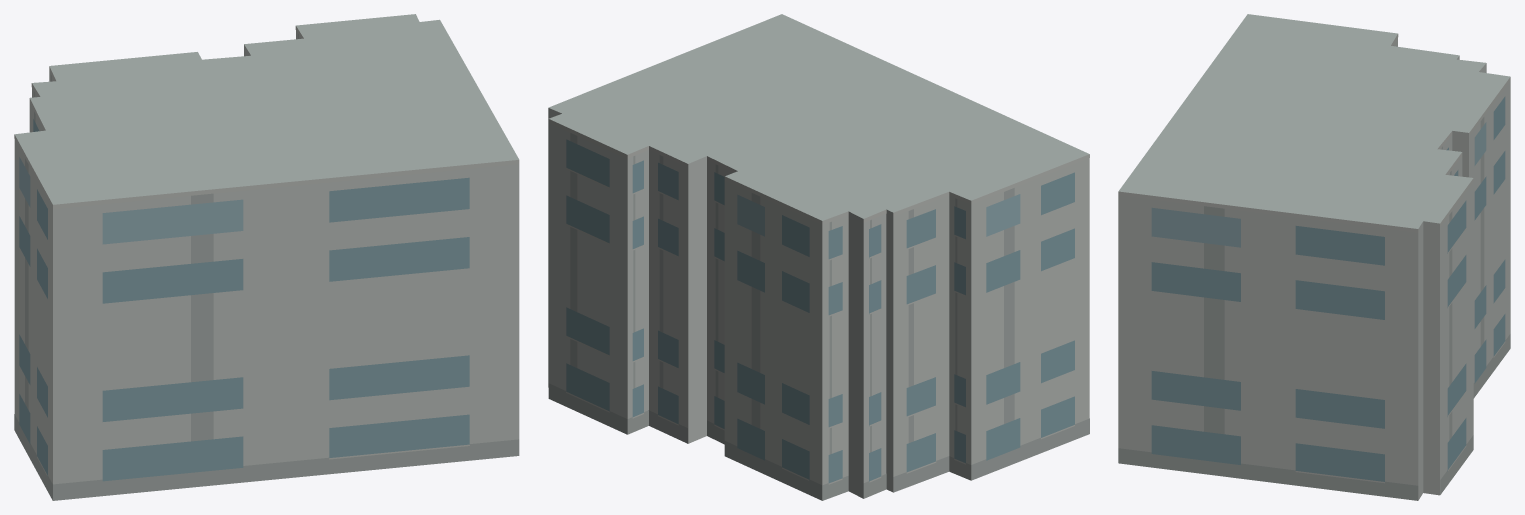
Rendered from survey-upis-32859685.glb.
3 views of the same model, side by side, from view 1: azimuth 30°, elevation 25°; view 2: azimuth 150°, elevation 25°; view 3: azimuth 270°, elevation 25° (orthographic). The views are drawn at different scales.
Visible parts, largest first — view 1: survey-upis-32859685.tmp; view 2: survey-upis-32859685.tmp; view 3: survey-upis-32859685.tmp.
Boxes of the visible parts, <box> form: survey-upis-32859685.tmp: <box>14,14,519,500</box>; survey-upis-32859685.tmp: <box>548,14,1089,500</box>; survey-upis-32859685.tmp: <box>1118,14,1510,500</box>.
Bounding box in the file's own units: 28.73 × 16.93 × 22.15.
